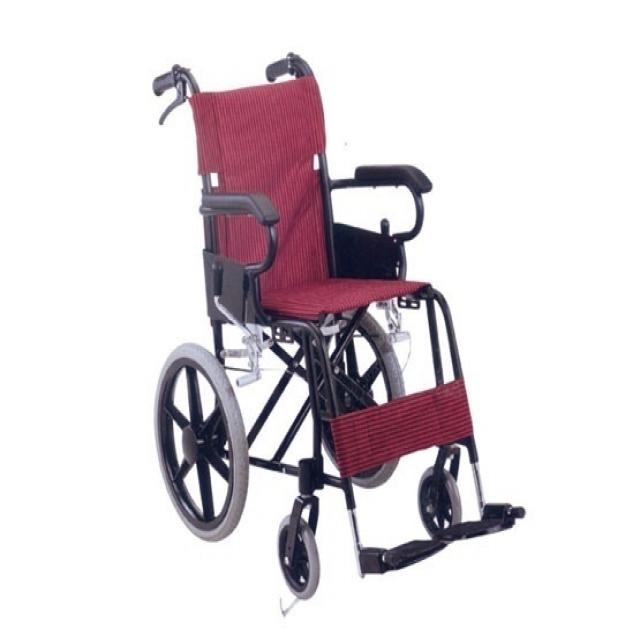wheelchair: (138, 33, 536, 602)
